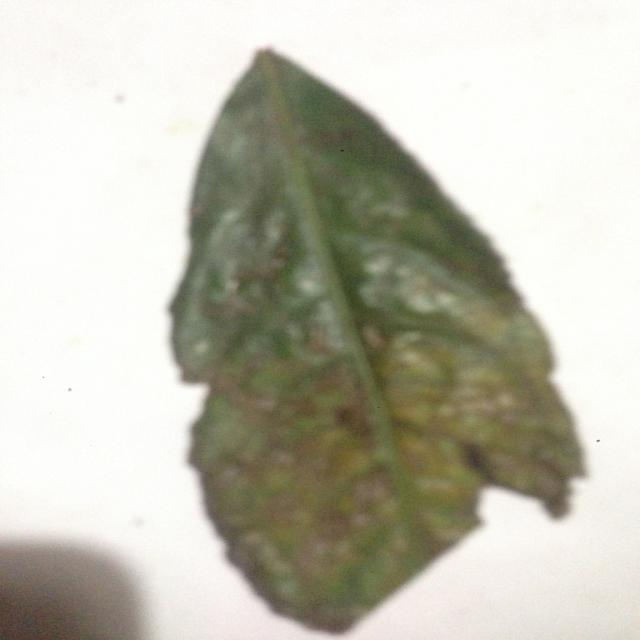Red Leaf Spot: (128, 30, 610, 627)
